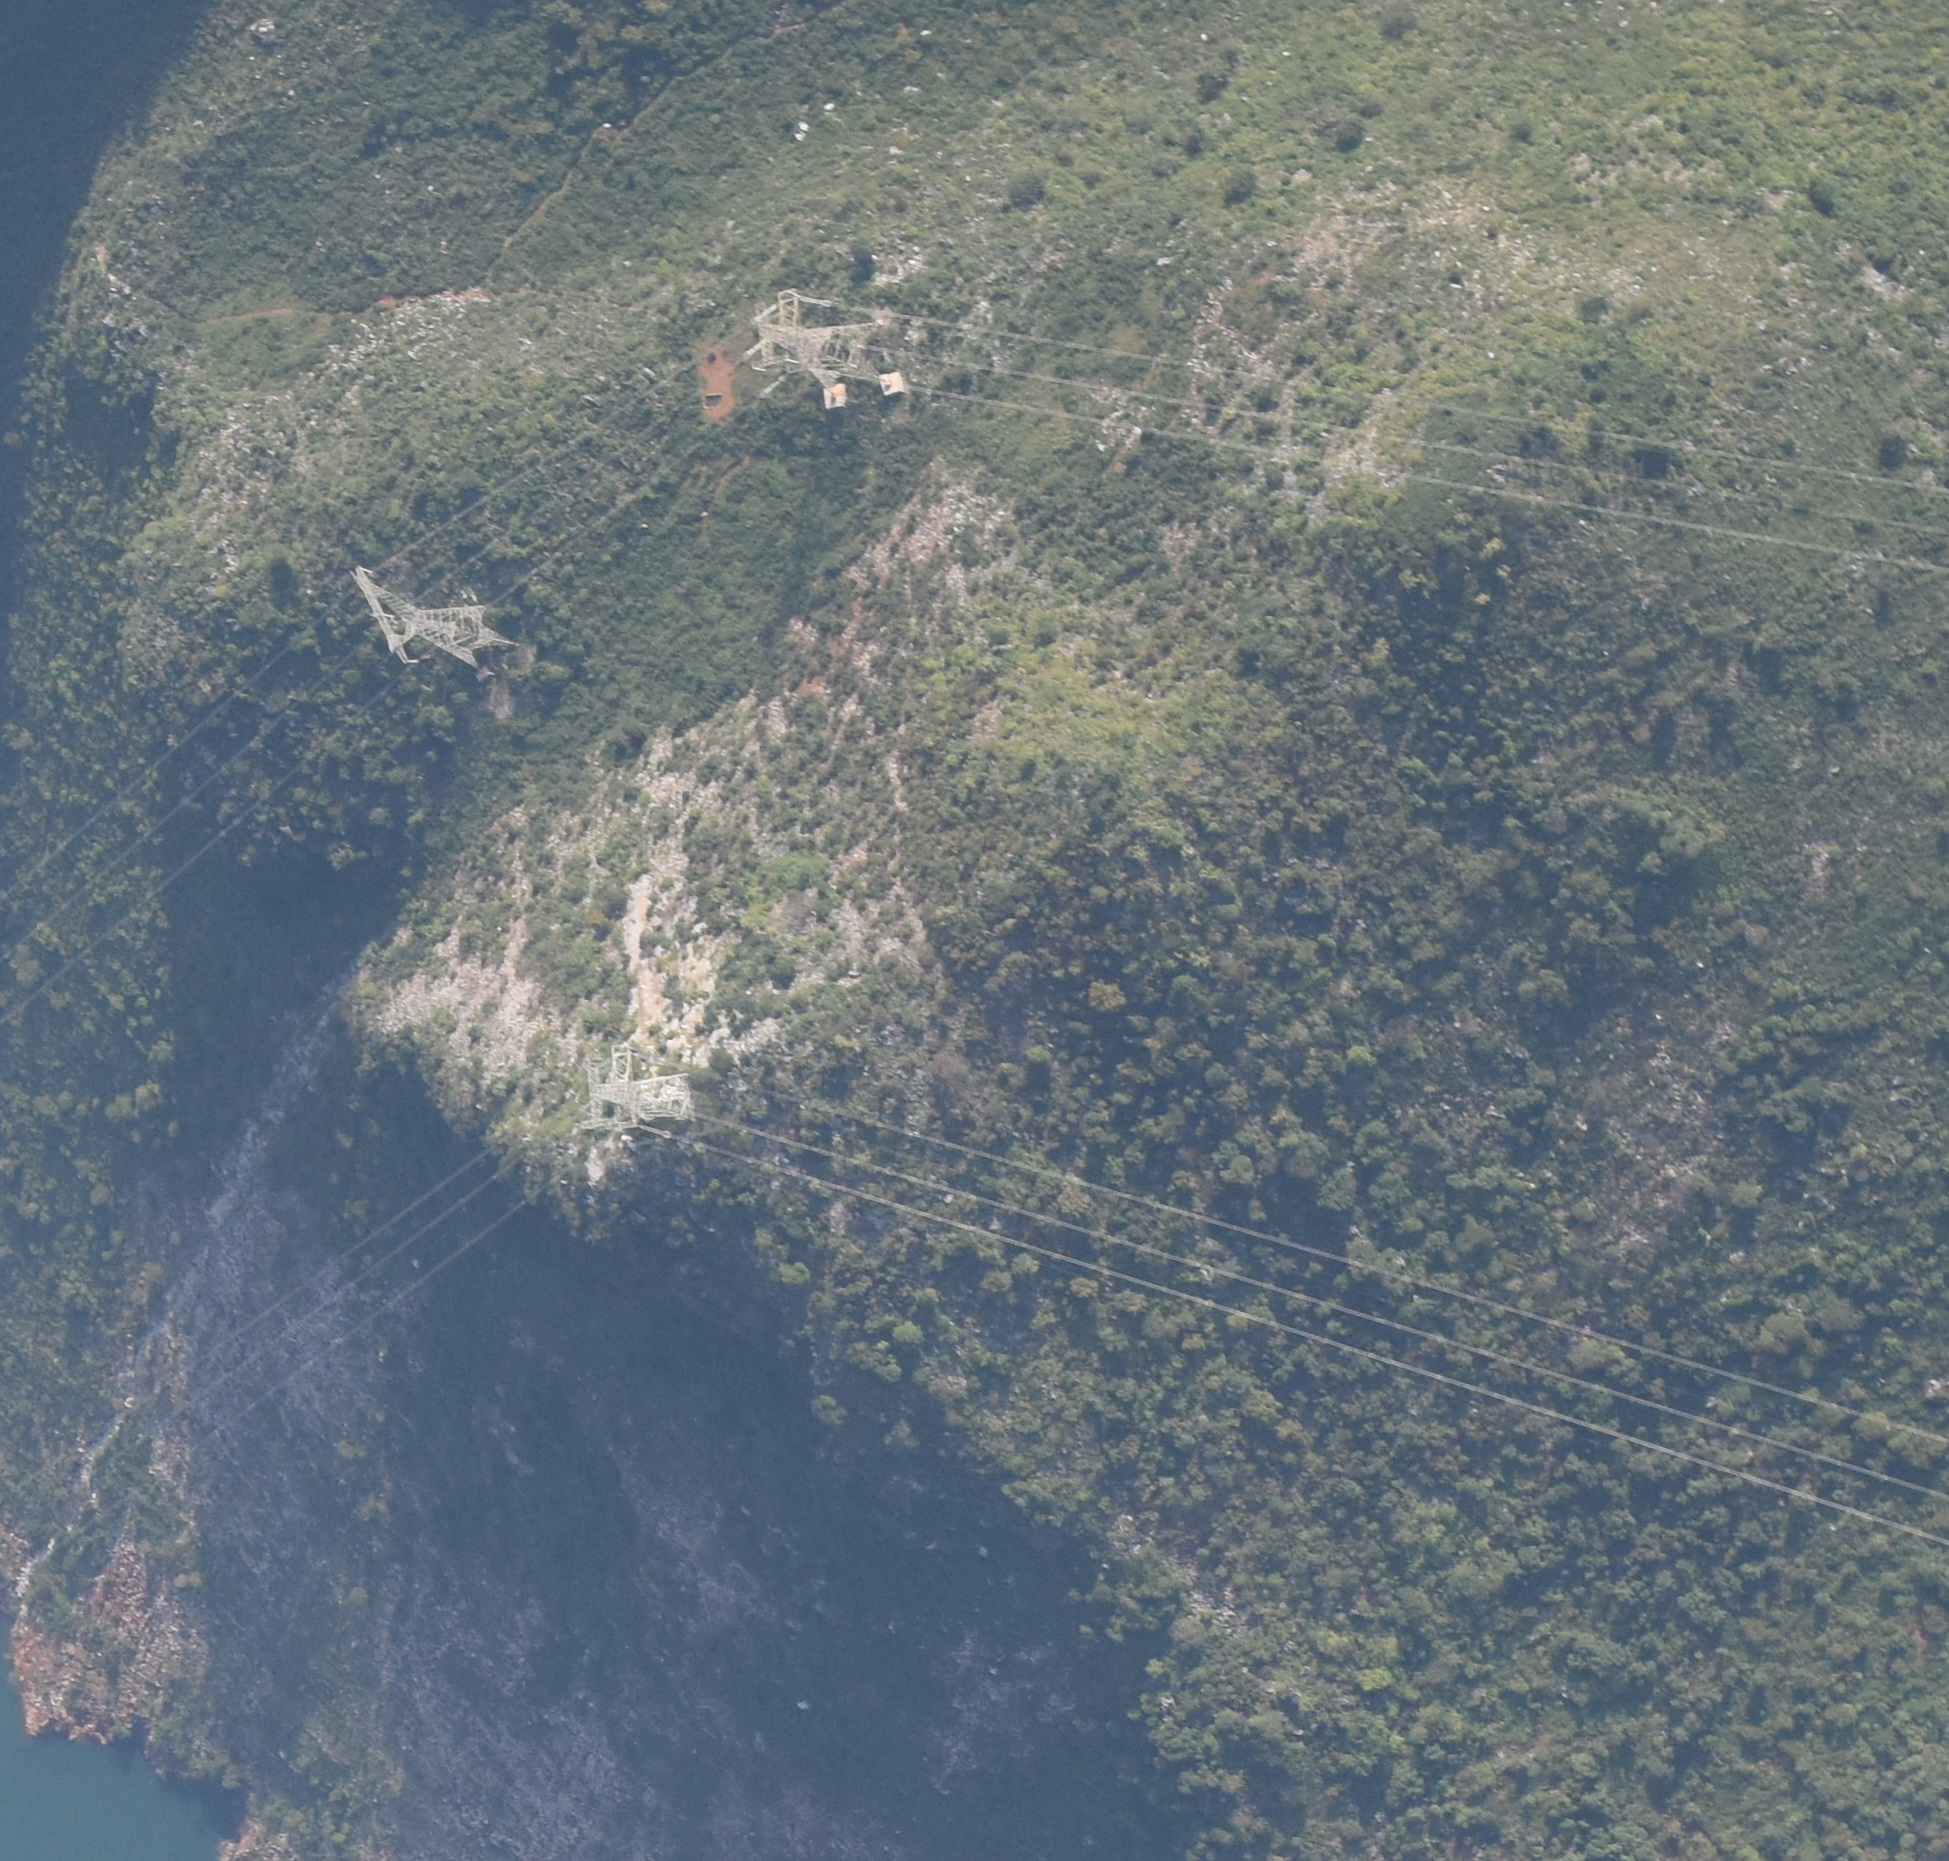cable-tower: (344, 563, 541, 683), (742, 290, 920, 415), (574, 1038, 700, 1142)
landslide: (110, 1143, 406, 1613)
